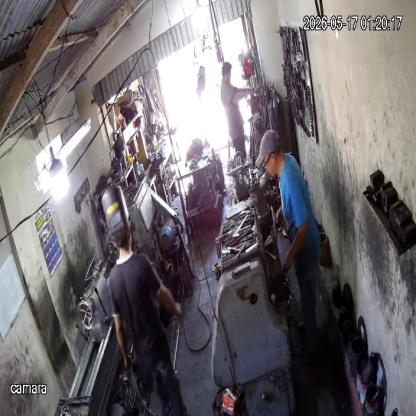lentes: (260, 152, 273, 175)
